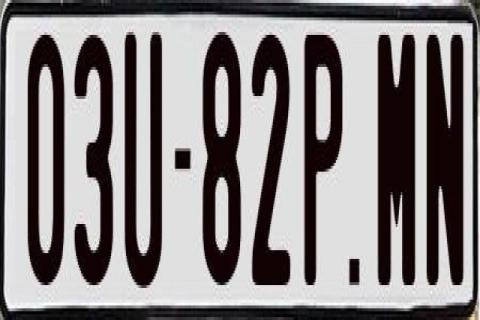0: (250, 29, 294, 291), (27, 32, 70, 285), (73, 35, 116, 285), (204, 27, 242, 280)
M: (378, 35, 421, 294)
N: (424, 35, 462, 299)
P: (302, 26, 345, 276)
U: (123, 27, 164, 286)
